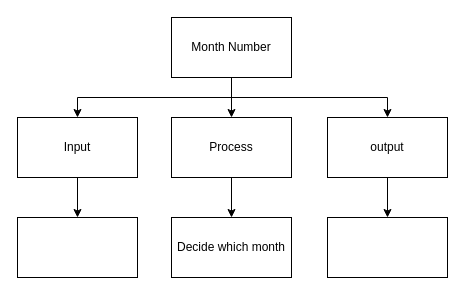
Image size: 465x295. Some labels were removed from this diagram. Each missing label, with the box of its shape:
Display month: (326, 216, 448, 278)
Get month_number: (16, 216, 138, 278)
